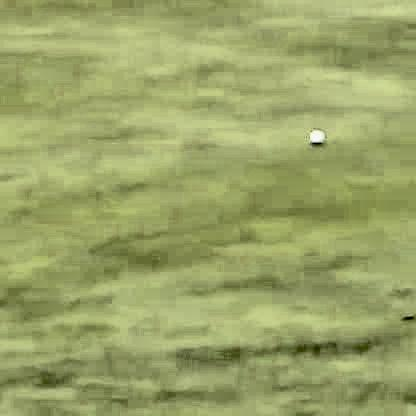golfball: (307, 127, 320, 140)
